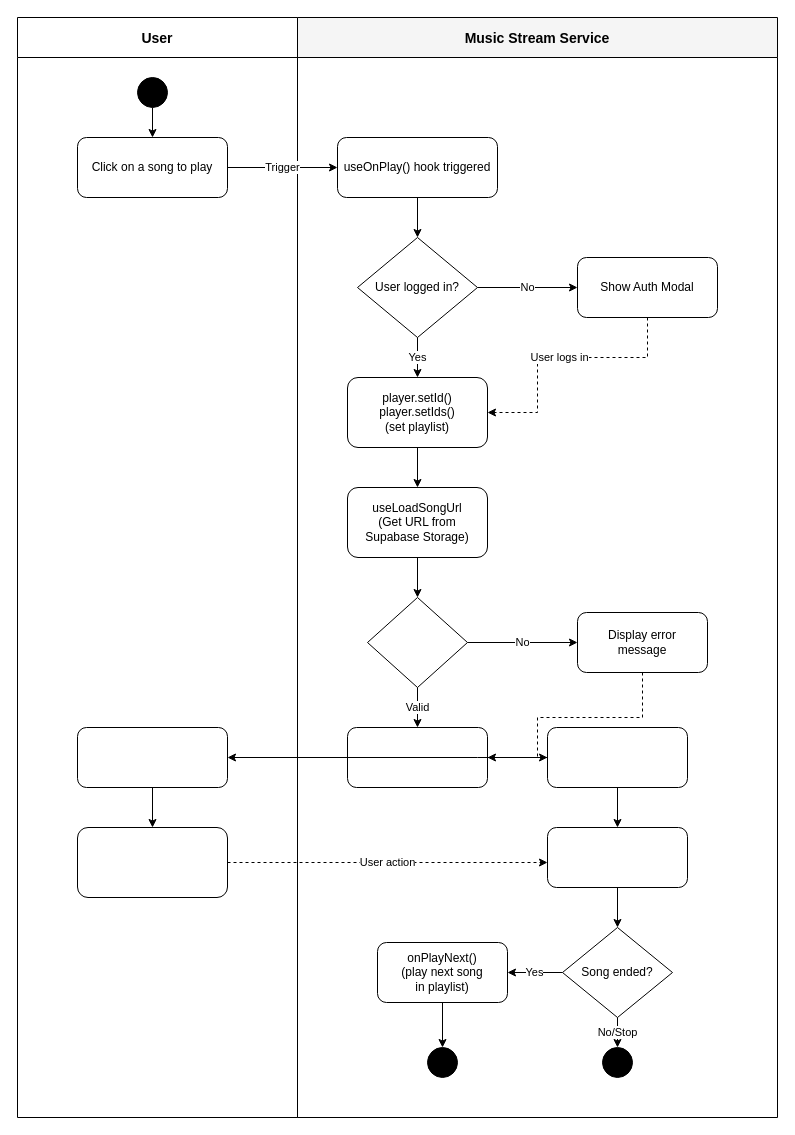
Some shapes in this 795 by 1135 pixel diagram are drawn without their labels. The centre of each missing label's shape, as x and y in pixels:
"Control playback (Play/Pause/Next/Previous)" goes at pixel 152 862.
"Initialize useSound hook with song URL" goes at pixel 417 757.
"Listen to music" goes at pixel 152 757.
"Render PlayerContent component" goes at pixel 617 757.
"Song URL valid?" goes at pixel 417 642.
"sound.play() Auto-play" goes at pixel 617 857.
